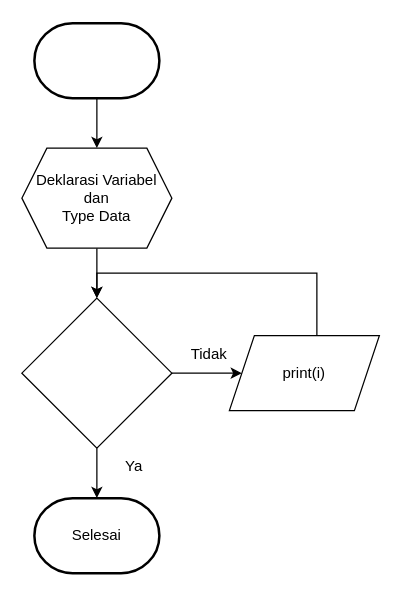
The diagram is 401 pixels wide and 595 high, and some of its shapes have lost their labels. The shapes that lost their labels are listed below. From the top down, each one's centre as x and y in pixels, then its label:
At pixel 96 60: "Mulai".
At pixel 96 372: "i <= 10".
